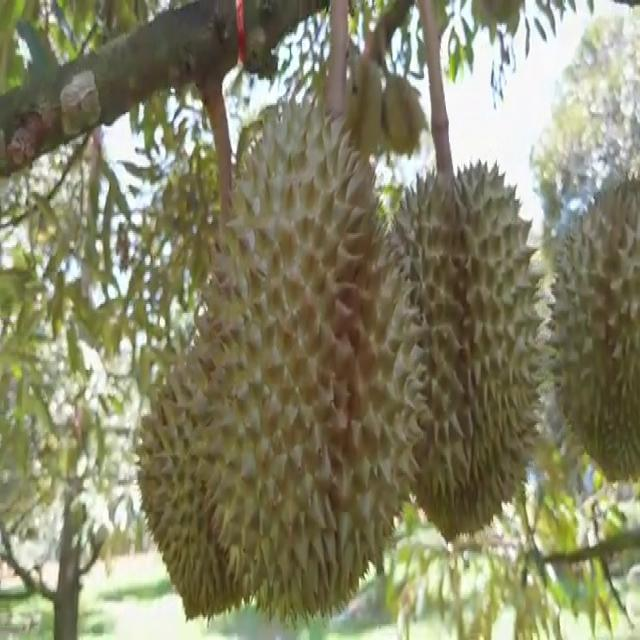durian: (194, 90, 428, 628), (376, 158, 542, 542), (132, 344, 296, 621), (546, 162, 639, 484), (336, 55, 387, 157), (380, 69, 433, 161)
